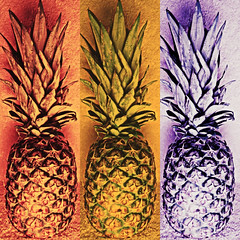Pineapple: (1, 1, 80, 240), (82, 1, 159, 240), (163, 1, 235, 240)
